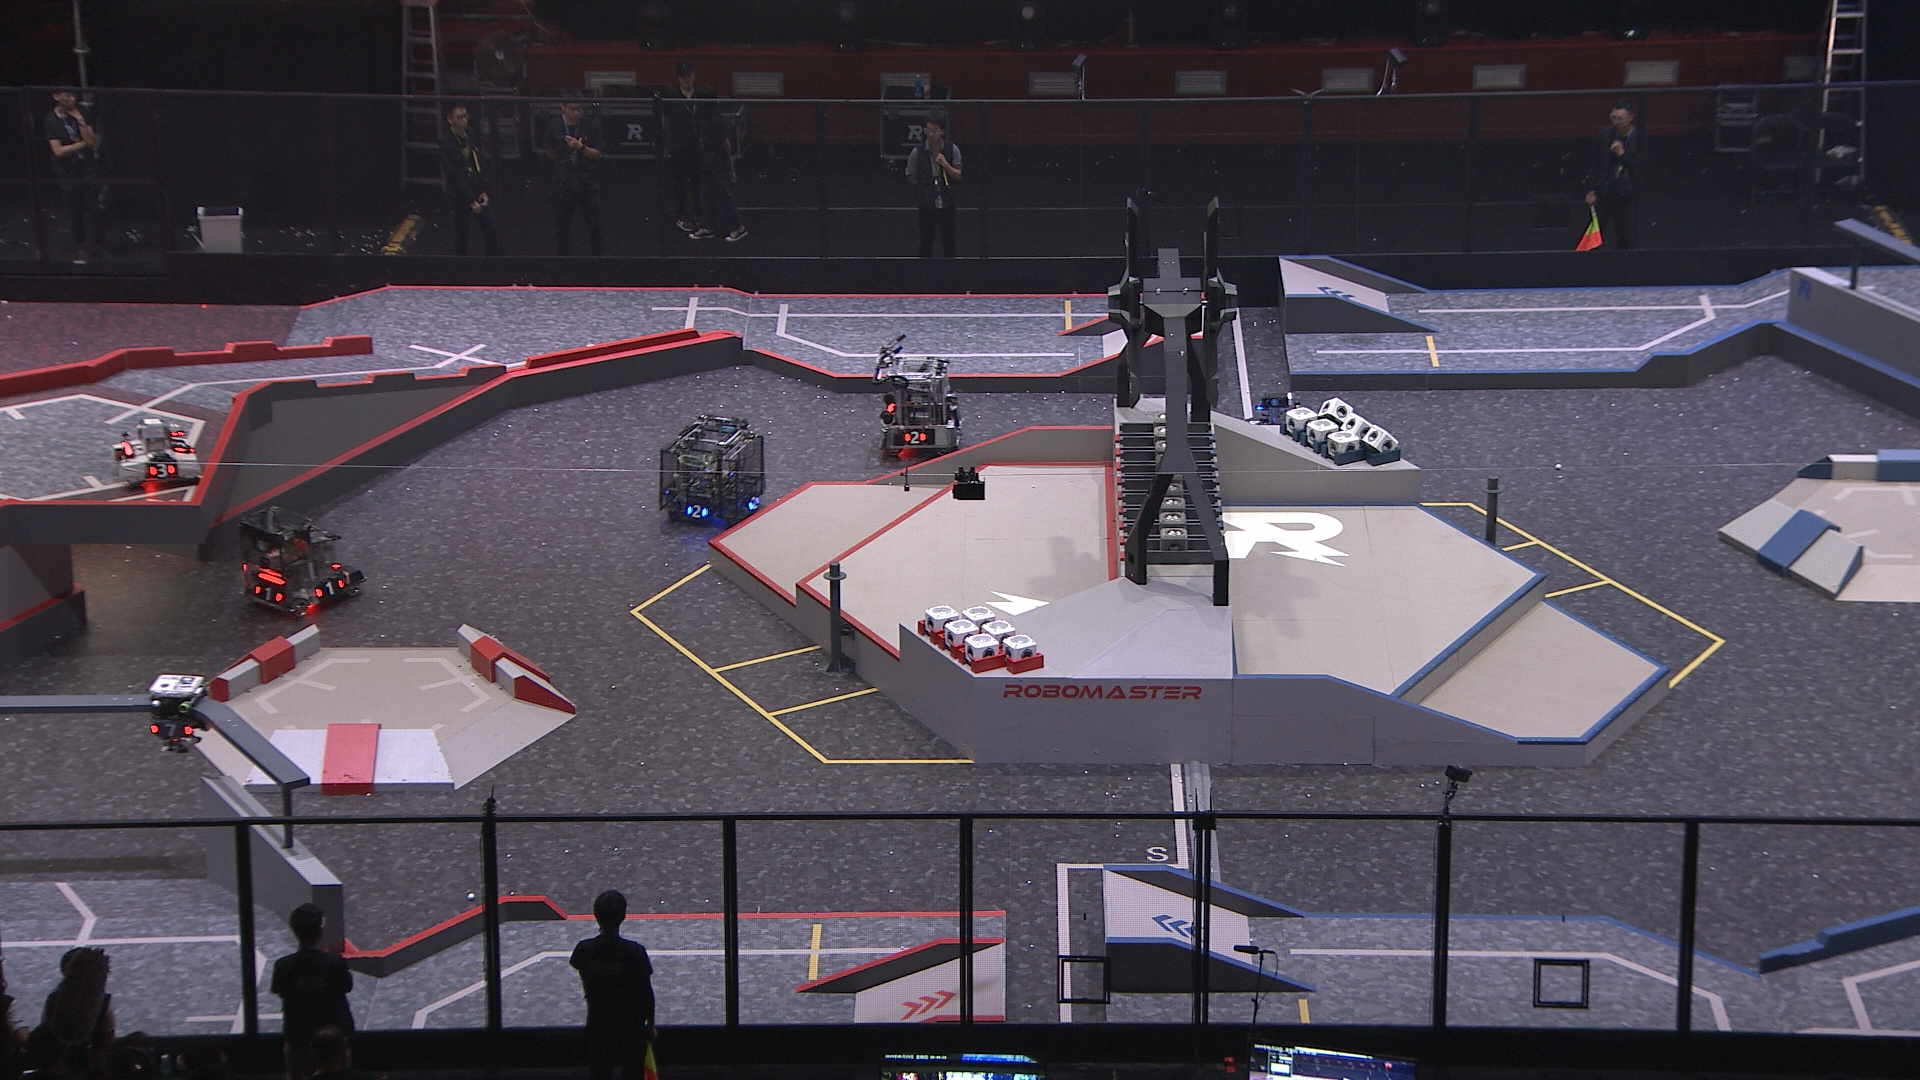armor: (146, 717, 193, 741), (311, 579, 349, 603), (252, 584, 286, 607), (145, 460, 175, 481), (167, 429, 191, 454), (899, 429, 928, 447), (684, 500, 708, 520), (746, 495, 766, 512)
car: (235, 504, 365, 618), (659, 414, 769, 529), (874, 352, 965, 456), (109, 414, 202, 491), (1242, 389, 1320, 456)
watcher: (144, 669, 208, 754)
